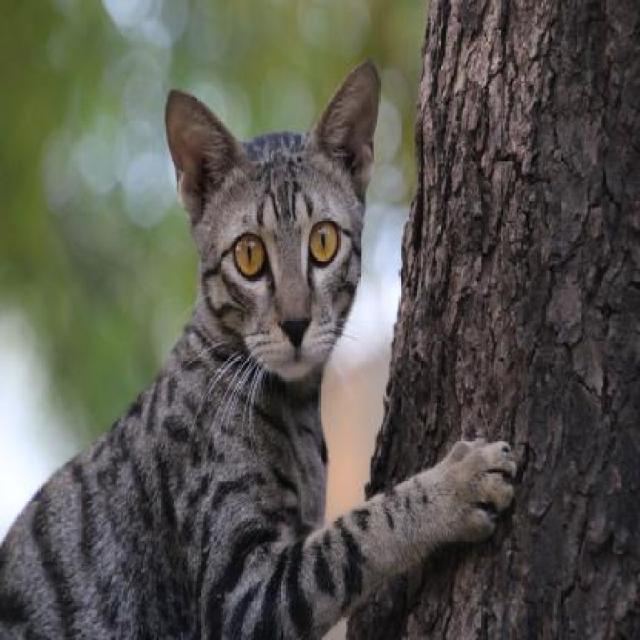cat: (103, 78, 502, 640)
